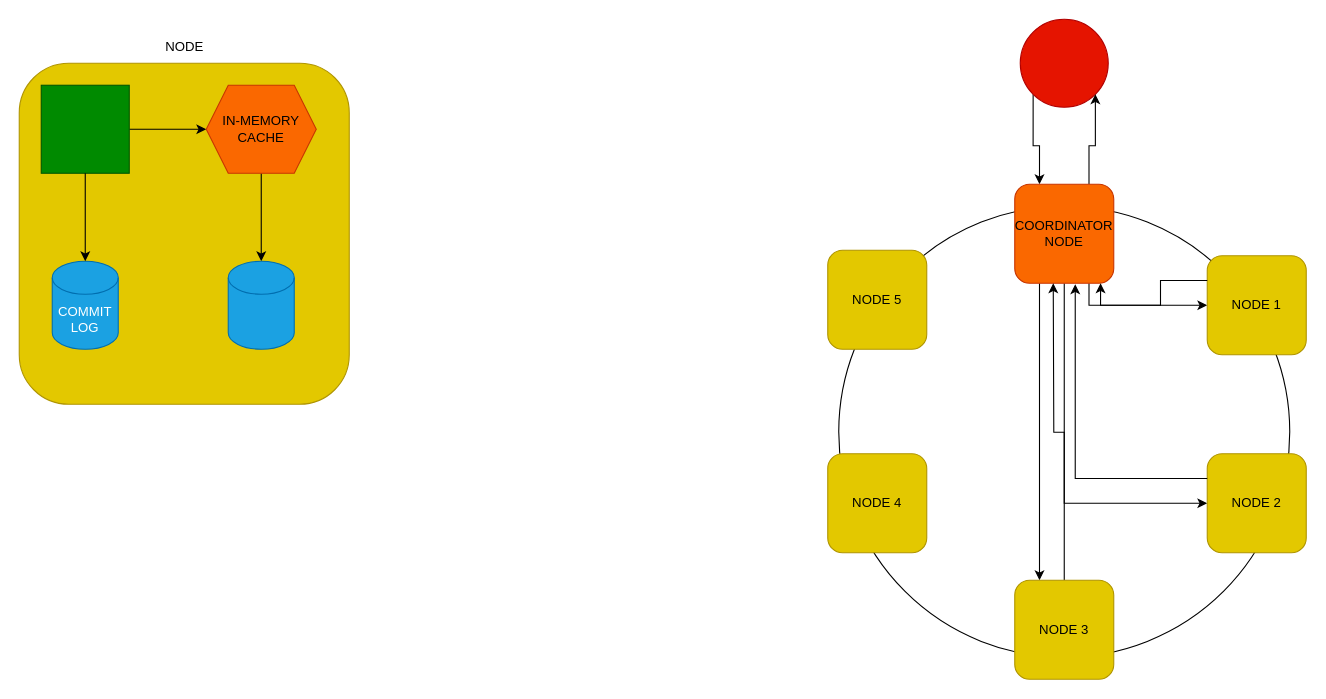
Image size: 1326x699. Some labels were removed from this diagram. Here are the shapes that lost their labels. From the top down, the box of each, then its label:
(1019, 18, 1108, 107): CLIENT
(40, 84, 129, 173): WEB SERVER
(227, 260, 294, 349): SS TABLES
(838, 205, 1290, 657): HASH RING
